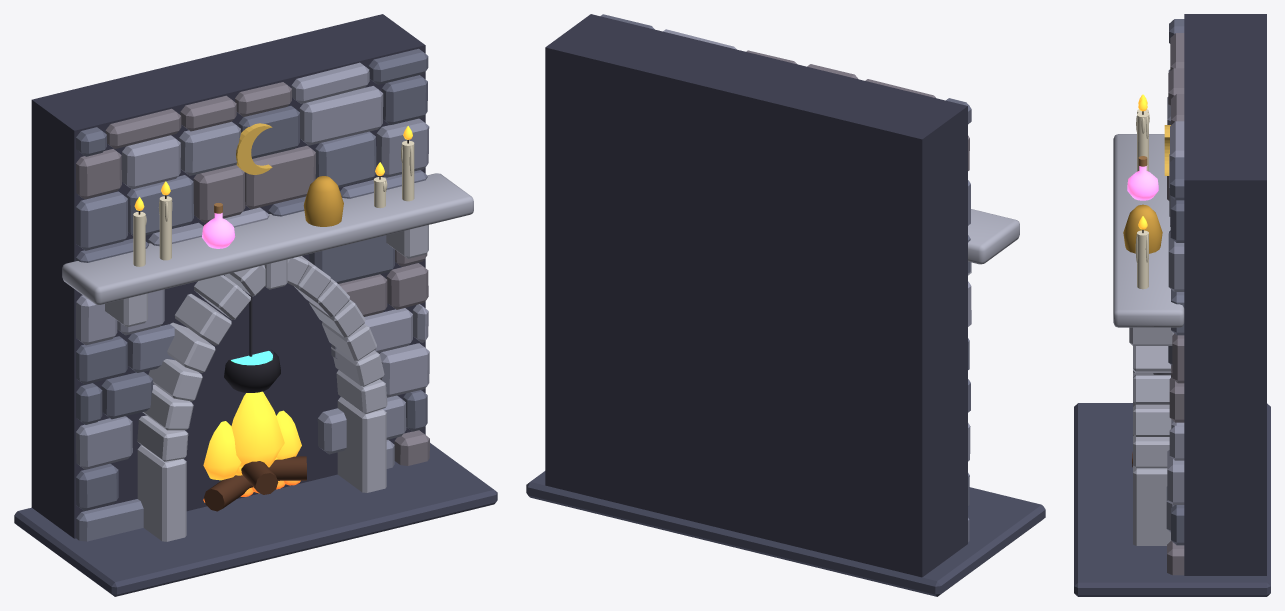
Rendered from magic_fireplace.glb.
3 views of the same model, side by side, from view 1: azimuth 30°, elevation 25°; view 2: azimuth 150°, elevation 25°; view 3: azimuth 270°, elevation 25° (orthographic). The views are drawn at different scales.
Visible parts, largest first — view 1: magic_fireplace; view 2: magic_fireplace; view 3: magic_fireplace.
Boxes of the visible parts, x1,y1,x2,y2 form: magic_fireplace: [14, 14, 497, 596]; magic_fireplace: [526, 14, 1045, 596]; magic_fireplace: [1074, 14, 1270, 596].
Bounding box in the file's own units: 2.2 × 2.3 × 1.
